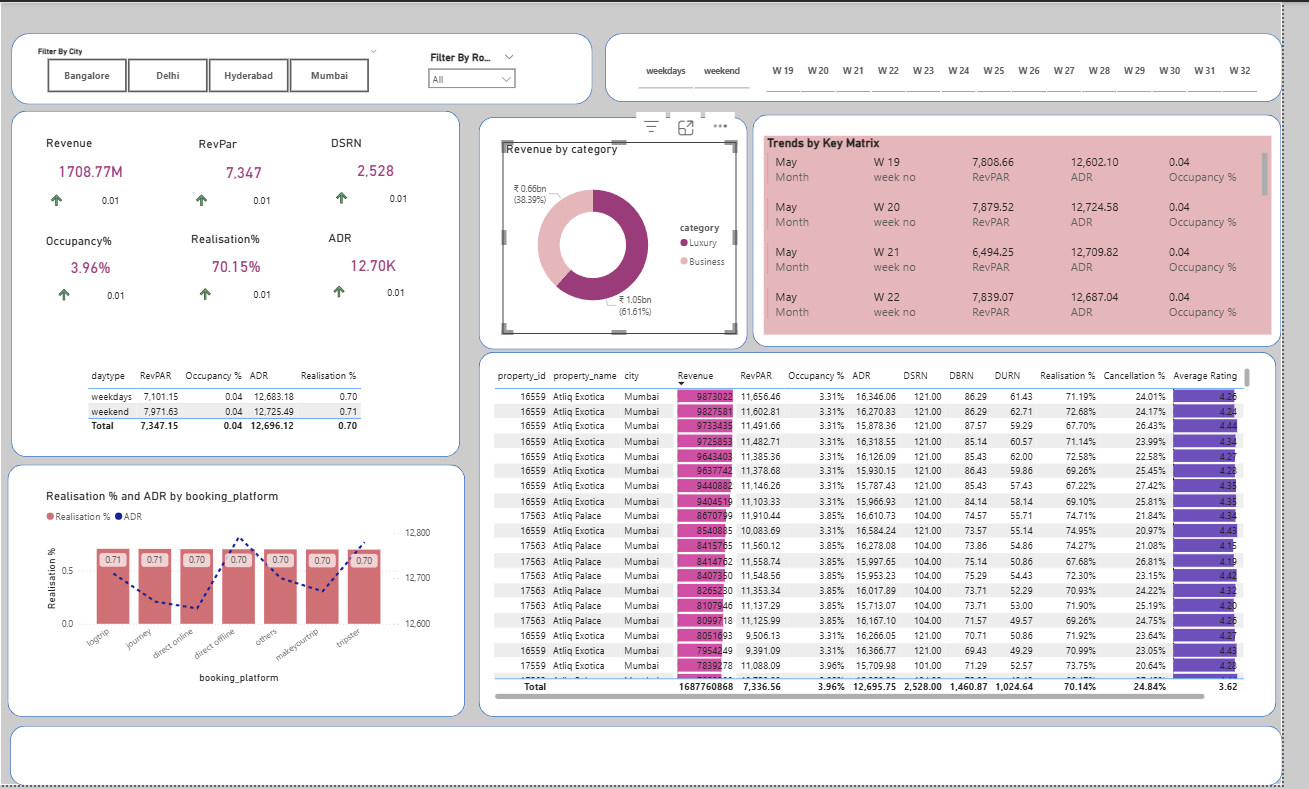

The page's visual inventory and layout, read from the dashboard file:
{"tool":"powerbi","page":{"name":"Page 1","canvas":[1800,1100],"ordinal":0},"visuals":[{"type":"shape","box":[15.8,152.7,630,486.1],"z":0},{"type":"shape","box":[672.8,491,1119.7,512.4],"z":1000},{"type":"shape","box":[10.5,649.3,642.3,354.5],"z":2000},{"type":"shape","box":[672.1,161.5,377.3,326.4],"z":3000},{"type":"shape","box":[1057.1,158.6,742.3,326.4],"z":4000},{"type":"shape","box":[849.4,43.9,951.2,96.5],"z":5000},{"type":"shape","box":[15.8,43.9,816.1,100],"z":6000},{"type":"tableEx","fields":{"Values":["Key_Measures.Realisation WoW change %"]},"box":[70.2,331.3,124.6,94.8],"z":7000},{"type":"tableEx","fields":{"Values":["Key_Measures.Realisation WoW change %"]},"box":[268.5,349.2,131.6,80.7],"z":8000},{"type":"tableEx","fields":{"Values":["Key_Measures.Realisation WoW change %"]},"box":[456.3,345.7,131.6,80.7],"z":9000},{"type":"tableEx","fields":{"Values":["Key_Measures.Realisation WoW change %"]},"box":[459.8,214.1,131.6,80.7],"z":10000},{"type":"tableEx","fields":{"Values":["Key_Measures.Realisation WoW change %"]},"box":[263.2,217.6,136.9,79],"z":11000},{"type":"tableEx","fields":{"Values":["Key_Measures.Realisation WoW change %"]},"box":[59.7,217.3,128.1,77.2],"z":12000},{"type":"tableEx","fields":{"Values":["dim_hotels.property_id","dim_hotels.property_name","dim_hotels.city","Key_Measures.Revenue","Key_Measures.RevPAR","Key_Measures.Occupancy %","Key_Measures.ADR","Key_Measures.DSRN","Key_Measures.DBRN","Key_Measures.DURN","Key_Measures.Realisation %","Key_Measures.Cancellation %"]},"box":[687.9,508.9,1072.3,475.6],"z":13000},{"type":"slicer","fields":{"Values":["dim_hotels.city"]},"box":[40.4,57.9,501.9,75.5],"z":14000},{"type":"slicer","fields":{"Values":["dim_rooms.room_class"]},"box":[591.4,64.9,142.2,56.2],"z":15000},{"type":"slicer","fields":{"Values":["dim_date.week no"]},"box":[1049.5,59.7,738.8,73.7],"z":16000},{"type":"slicer","fields":{"Values":["dim_date.daytype"]},"box":[870.5,64.9,205.3,63.2],"z":17000},{"type":"card","title":"RevPar","fields":{"Values":["Key_Measures.RevPAR"]},"box":[273.8,189.5,136.9,79],"z":18000},{"type":"card","title":"DSRN","fields":{"Values":["Key_Measures.DSRN"]},"box":[459.8,187.8,135.1,79],"z":19000},{"type":"card","title":"ADR","fields":{"Values":["Key_Measures.ADR"]},"box":[456.3,321.2,135.1,77.2],"z":20000},{"type":"card","title":"Occupancy%","fields":{"Values":["Key_Measures.Occupancy %"]},"box":[59.7,324.3,135.1,77.2],"z":21000},{"type":"card","title":"Realisation%","fields":{"Values":["Key_Measures.Realisation %"]},"box":[263.2,322.9,136.9,77.2],"z":22000},{"type":"donutChart","fields":{"Y":["Key_Measures.Revenue"],"Category":["dim_hotels.category"]},"box":[705.5,196.6,328.2,270.3],"z":23000},{"type":"multiRowCard","title":"Trends by Key Matrix","fields":{"Values":["dim_date.mmm yy.Variation.Date Hierarchy.Month","dim_date.week no","Key_Measures.RevPAR","Key_Measures.ADR","Key_Measures.Occupancy %"]},"box":[1072.3,187.8,712.5,279],"z":24000},{"type":"lineStackedColumnComboChart","fields":{"Category":["fact_bookings.booking_platform"],"Y":["Key_Measures.Realisation %"],"Y2":["Key_Measures.ADR"]},"box":[59.7,682.7,549.3,279],"z":25000},{"type":"tableEx","fields":{"Values":["dim_date.daytype","Key_Measures.RevPAR","Key_Measures.Occupancy %","Key_Measures.ADR","Key_Measures.Realisation %"]},"box":[117.6,508.9,410.7,124.6],"z":26000},{"type":"card","title":"Revenue","fields":{"Values":["Key_Measures.Revenue"]},"box":[59.7,187.4,135.1,80.7],"z":27000},{"type":"shape","box":[14,1016.1,1786.5,84.2],"z":28000}]}

Visuals, with their boxes in screenshot pixels (x1, y1, x2, y2), scaled from the page's 1800x1100 canvas onto the 1309x789 screenshot:
shape: x1=11, y1=110, x2=470, y2=458
shape: x1=489, y1=352, x2=1304, y2=720
shape: x1=8, y1=466, x2=475, y2=720
shape: x1=489, y1=116, x2=763, y2=350
shape: x1=769, y1=114, x2=1308, y2=348
shape: x1=618, y1=31, x2=1308, y2=101
shape: x1=11, y1=31, x2=605, y2=103
tableEx - Key_Measures.Realisation WoW change %: x1=51, y1=238, x2=142, y2=306
tableEx - Key_Measures.Realisation WoW change %: x1=195, y1=250, x2=291, y2=308
tableEx - Key_Measures.Realisation WoW change %: x1=332, y1=248, x2=428, y2=306
tableEx - Key_Measures.Realisation WoW change %: x1=334, y1=154, x2=430, y2=211
tableEx - Key_Measures.Realisation WoW change %: x1=191, y1=156, x2=291, y2=213
tableEx - Key_Measures.Realisation WoW change %: x1=43, y1=156, x2=137, y2=211
tableEx - dim_hotels.property_id x dim_hotels.property_name: x1=500, y1=365, x2=1280, y2=706
slicer - dim_hotels.city: x1=29, y1=42, x2=394, y2=96
slicer - dim_rooms.room_class: x1=430, y1=47, x2=533, y2=87
slicer - dim_date.week no: x1=763, y1=43, x2=1300, y2=96
slicer - dim_date.daytype: x1=633, y1=47, x2=782, y2=92
"RevPar" card: x1=199, y1=136, x2=299, y2=193
"DSRN" card: x1=334, y1=135, x2=433, y2=191
"ADR" card: x1=332, y1=230, x2=430, y2=286
"Occupancy%" card: x1=43, y1=233, x2=142, y2=288
"Realisation%" card: x1=191, y1=232, x2=291, y2=287
donutChart - Key_Measures.Revenue x dim_hotels.category: x1=513, y1=141, x2=752, y2=335
"Trends by Key Matrix" multiRowCard: x1=780, y1=135, x2=1298, y2=335
lineStackedColumnComboChart - fact_bookings.booking_platform x Key_Measures.Realisation %: x1=43, y1=490, x2=443, y2=690
tableEx - dim_date.daytype x Key_Measures.RevPAR: x1=86, y1=365, x2=384, y2=454
"Revenue" card: x1=43, y1=134, x2=142, y2=192
shape: x1=10, y1=729, x2=1308, y2=788
